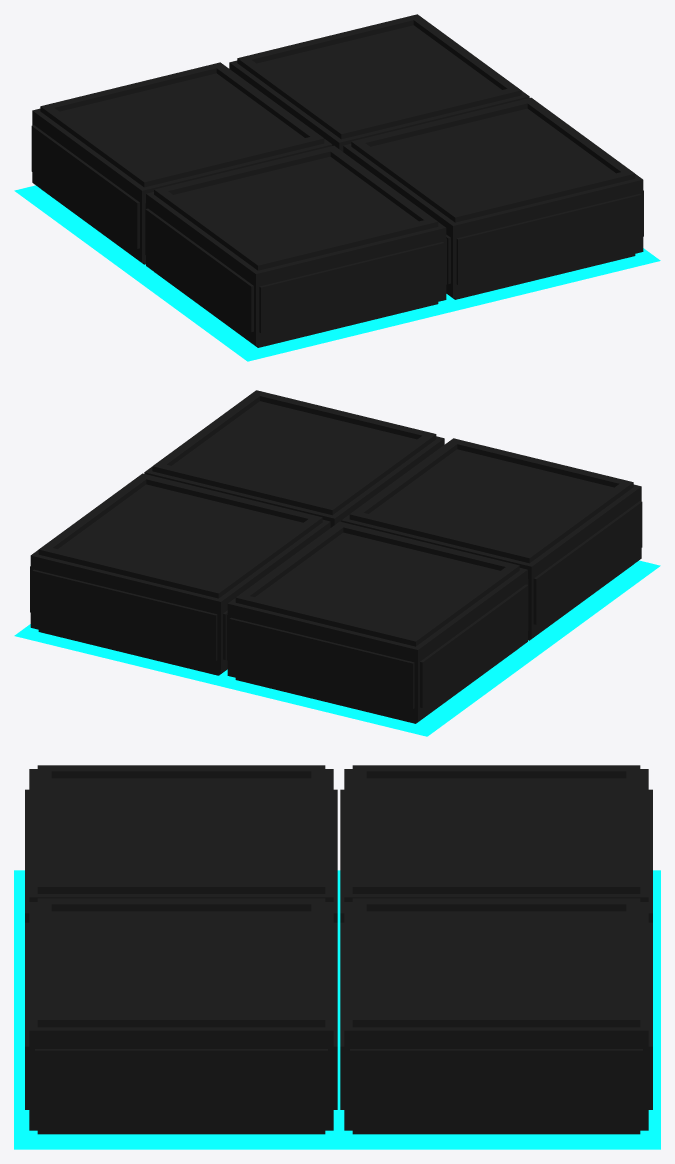
Rendered from floor.glb.
3 views of the same model, one above another, from view 1: azimuth 30°, elevation 25°; view 2: azimuth 150°, elevation 25°; view 3: azimuth 270°, elevation 25° (orthographic). The views are drawn at different scales.
Visible parts, largest first — view 1: WallCeiling.003; view 2: WallCeiling.003; view 3: WallCeiling.003.
Part boxes in pixels (x1,y1,x2,y2): WallCeiling.003: (14, 14, 660, 361); WallCeiling.003: (14, 390, 660, 736); WallCeiling.003: (14, 765, 660, 1149).
Bounding box in the file's own units: 5.25 × 1.03 × 5.14.
